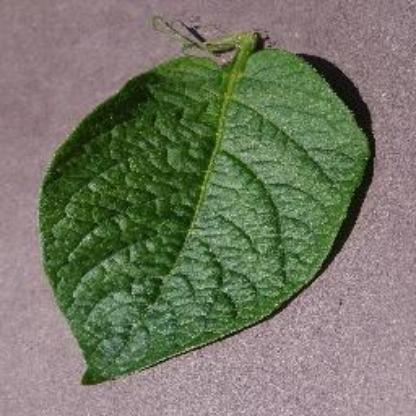Healthy-plant: (32, 29, 396, 415)
